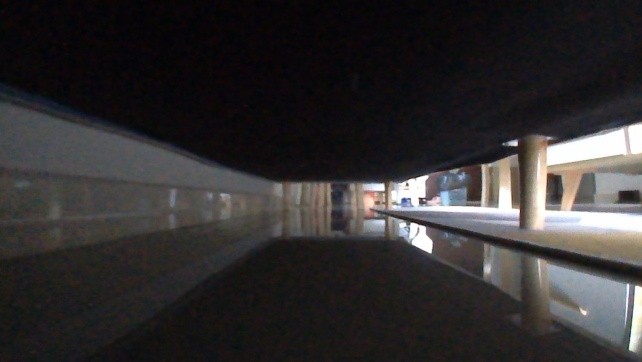blanket: (369, 204, 641, 275)
